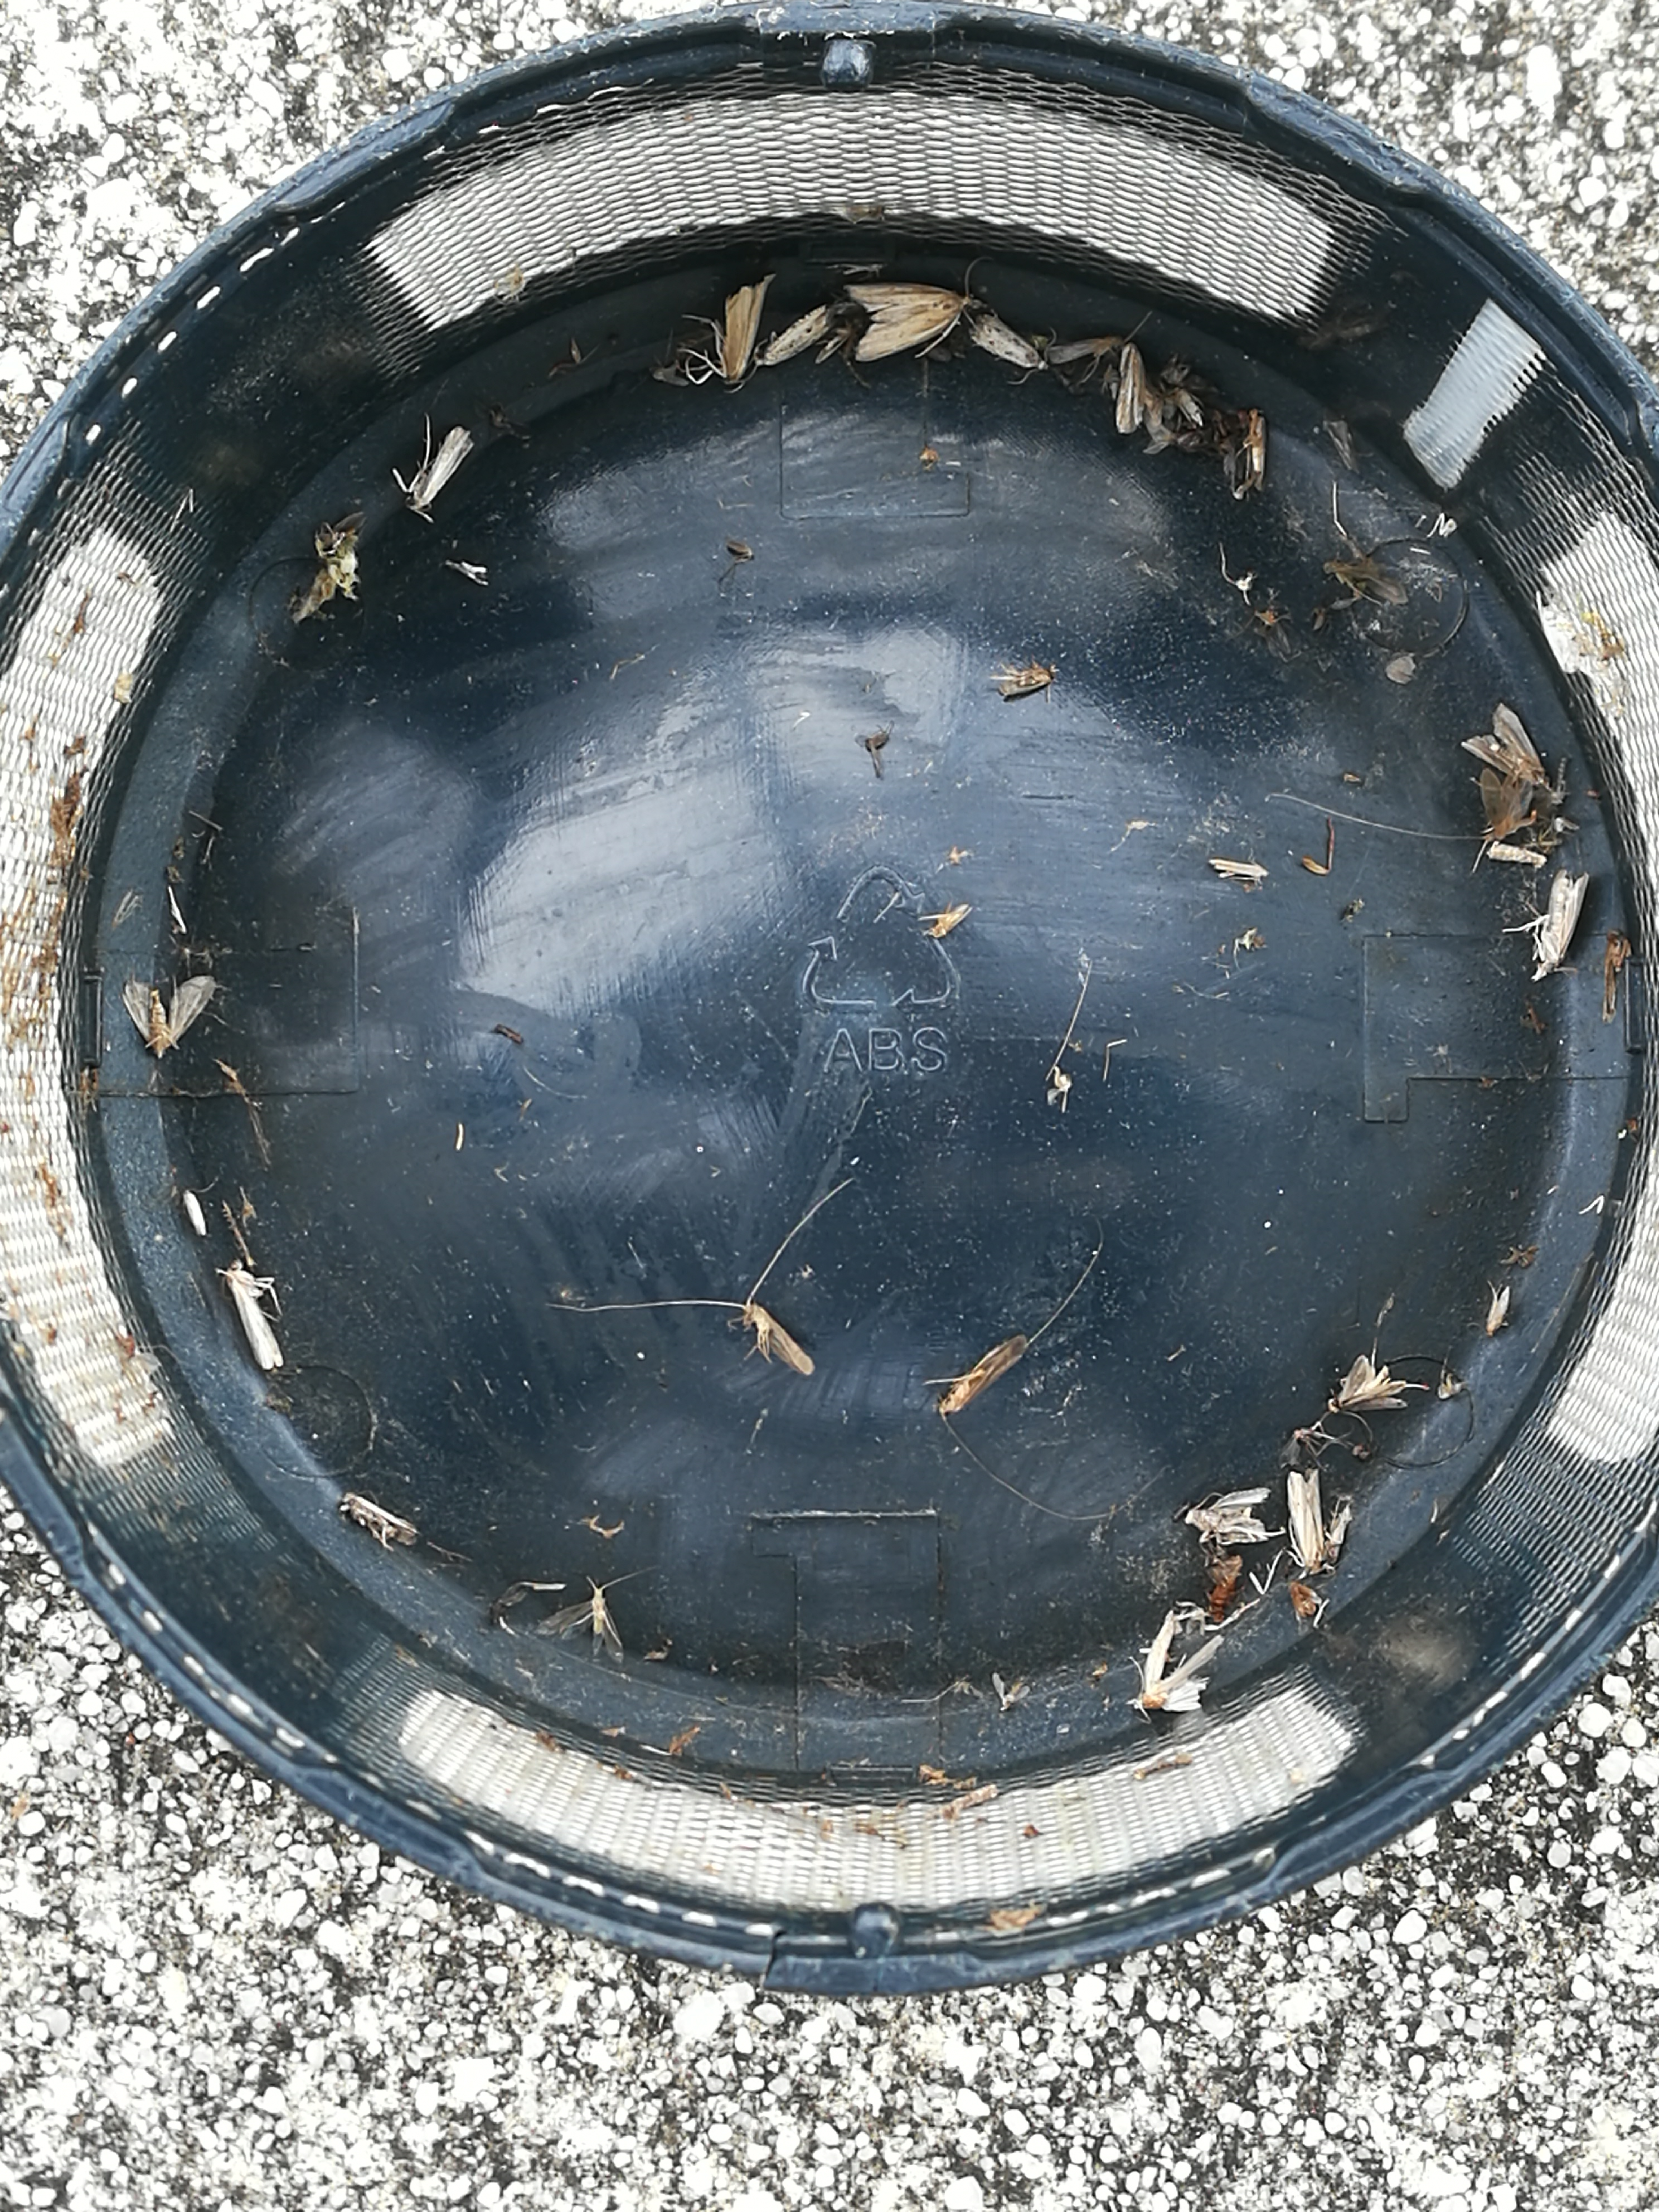mosquito: (939, 1336, 1026, 1411), (227, 1259, 282, 1369), (408, 427, 474, 512), (749, 1303, 816, 1374), (1541, 871, 1586, 972), (756, 303, 828, 366), (340, 1494, 416, 1547), (971, 315, 1042, 368), (1288, 1470, 1324, 1566), (1049, 336, 1122, 362), (999, 667, 1054, 695), (931, 902, 969, 935), (1249, 408, 1265, 482)
moth: (845, 282, 960, 361), (1131, 1611, 1222, 1710), (124, 974, 214, 1057), (1459, 702, 1544, 782), (538, 1587, 624, 1662), (725, 273, 775, 381), (1185, 1486, 1269, 1541), (1328, 1355, 1408, 1413), (1481, 770, 1532, 840)
